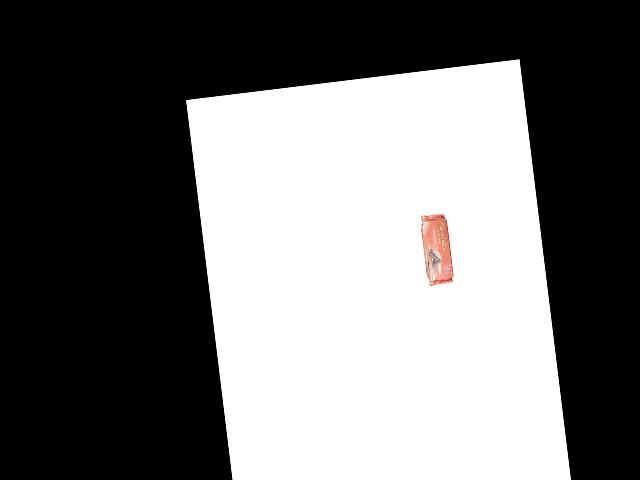chocolate: (413, 212, 455, 288)
